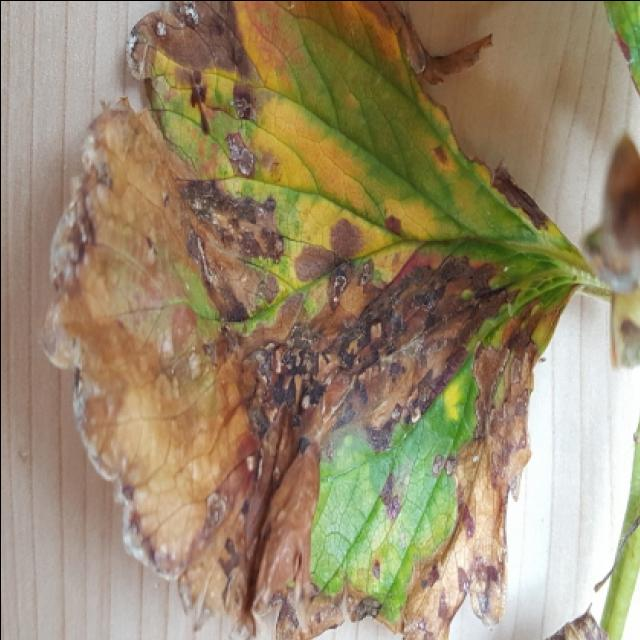Angular Leafspot: (37, 2, 591, 640)
